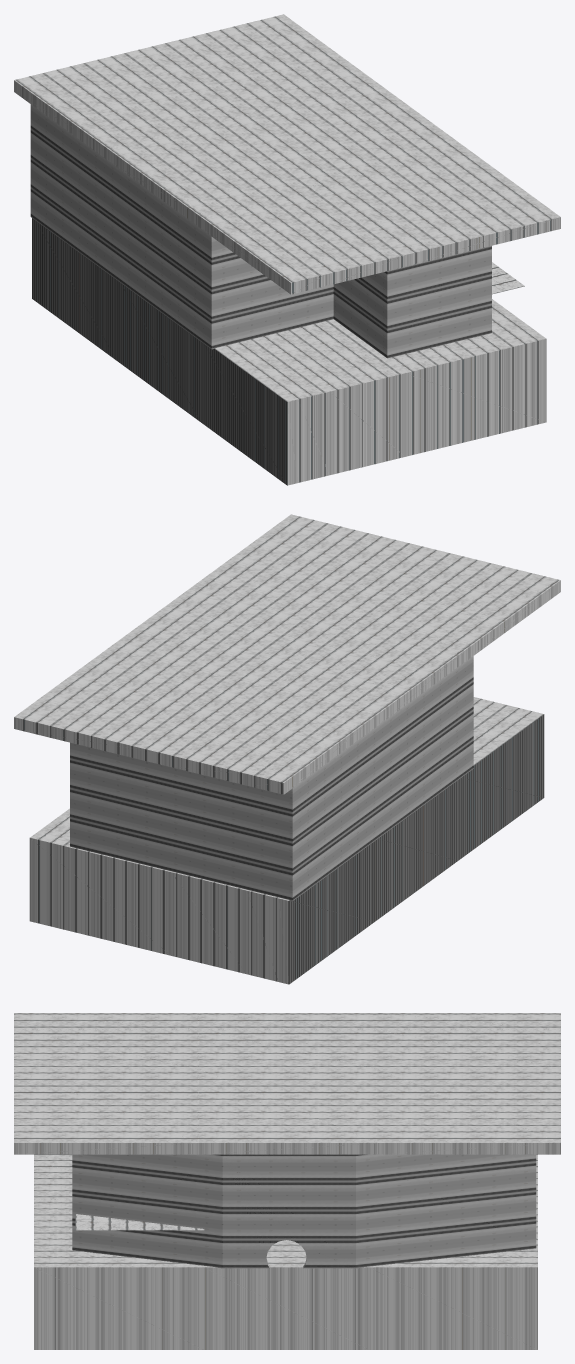
File: SM_Wallsandfloors.glb
3 views of the same model, one above another, from view 1: azimuth 30°, elevation 25°; view 2: azimuth 150°, elevation 25°; view 3: azimuth 270°, elevation 25° (orthographic).
Parts seen in each view (by area): view 1: Plane.002; view 2: Plane.002; view 3: Plane.002.
Boxes of the visible parts, x1,y1,x2,y2 form: Plane.002: [14, 14, 560, 485]; Plane.002: [14, 514, 560, 984]; Plane.002: [14, 1013, 560, 1349].
Bounding box in the file's own units: 79.43 × 59.52 × 141.
Materials: 2 (2 with a texture image).
